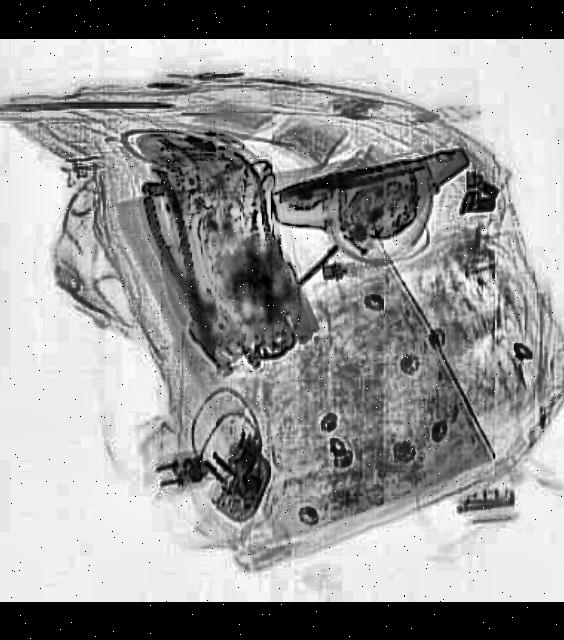Pliers: (134, 176, 228, 358)
